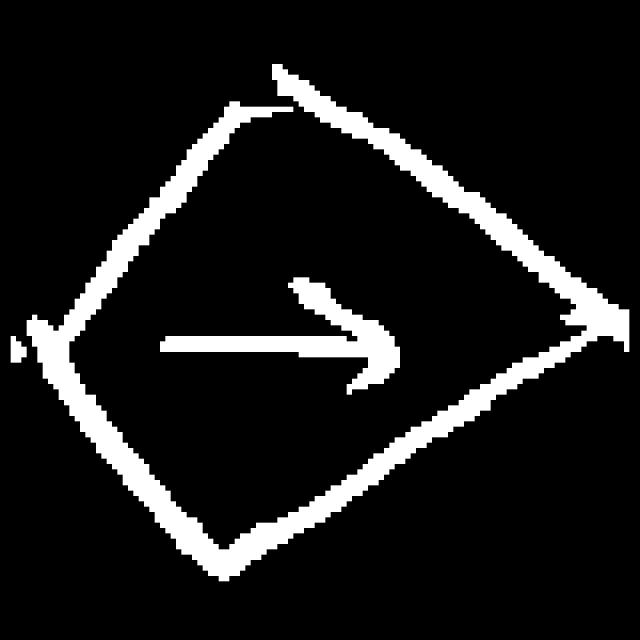dependant_current: (39, 86, 606, 589)
